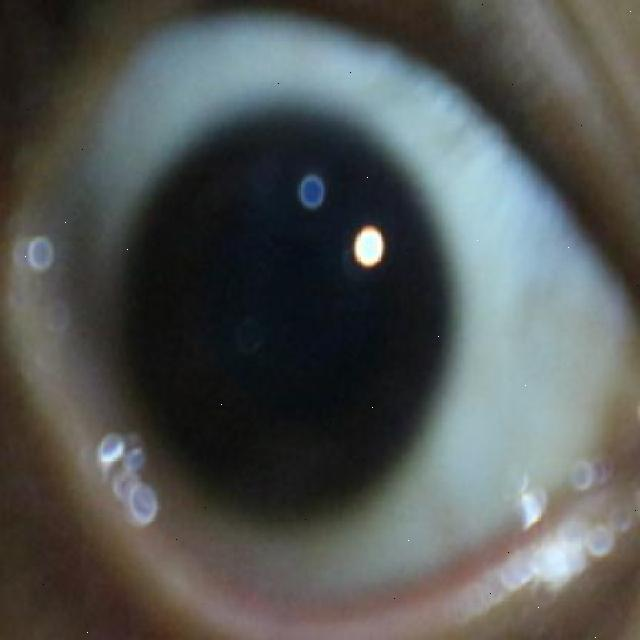Normal: (118, 112, 448, 527)
